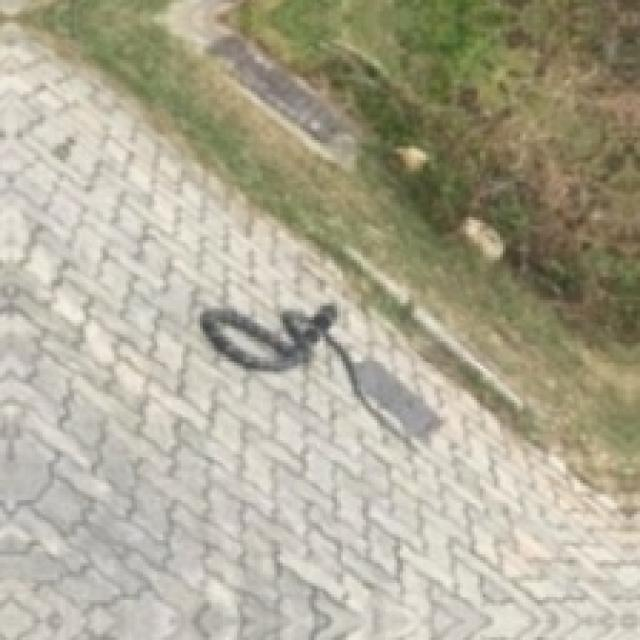king cobra: (200, 303, 420, 440)
